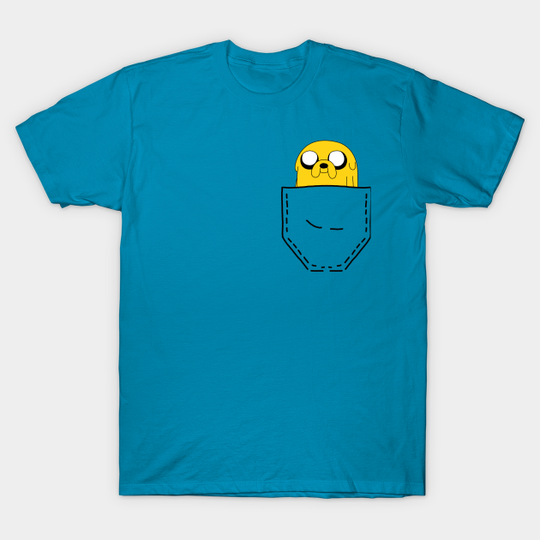design: (278, 137, 374, 274)
